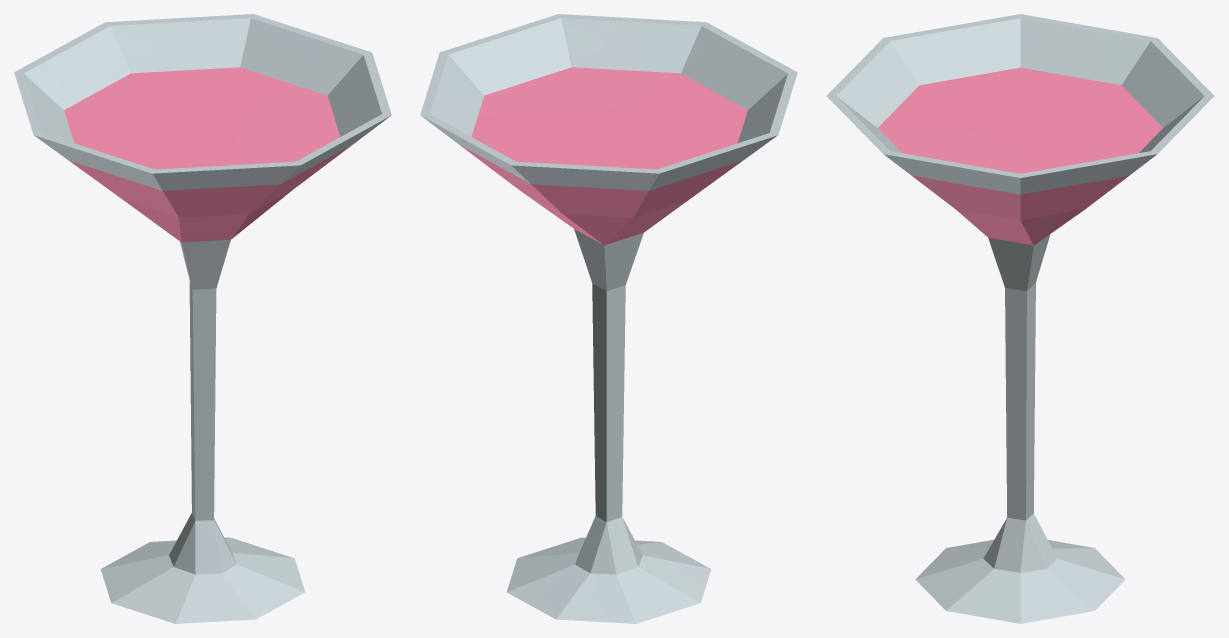
File: wineglass_002.glb
3 renders of one model, left to right at view 1: azimuth 30°, elevation 25°; view 2: azimuth 150°, elevation 25°; view 3: azimuth 270°, elevation 25°, orthographic.
Parts seen in each view (by area): view 1: wineglass_002; view 2: wineglass_002; view 3: wineglass_002.
Part boxes in pixels (<box>): wineglass_002: <box>14,14,391,623</box>; wineglass_002: <box>420,14,797,623</box>; wineglass_002: <box>826,14,1214,623</box>.
Size of the model in its own units: 0.1028 by 0.1413 by 0.1028.
1 material, 1 textured.
